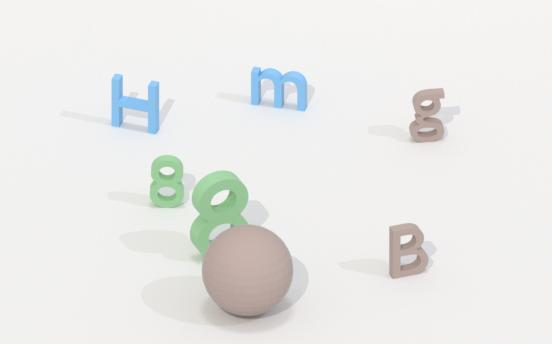8: (187, 170, 256, 255), (145, 154, 189, 211)
H-hoa: (106, 72, 168, 137)
b: (384, 220, 433, 282)
cau: (195, 225, 304, 319)
g: (405, 86, 450, 147)
m: (245, 63, 311, 114)
